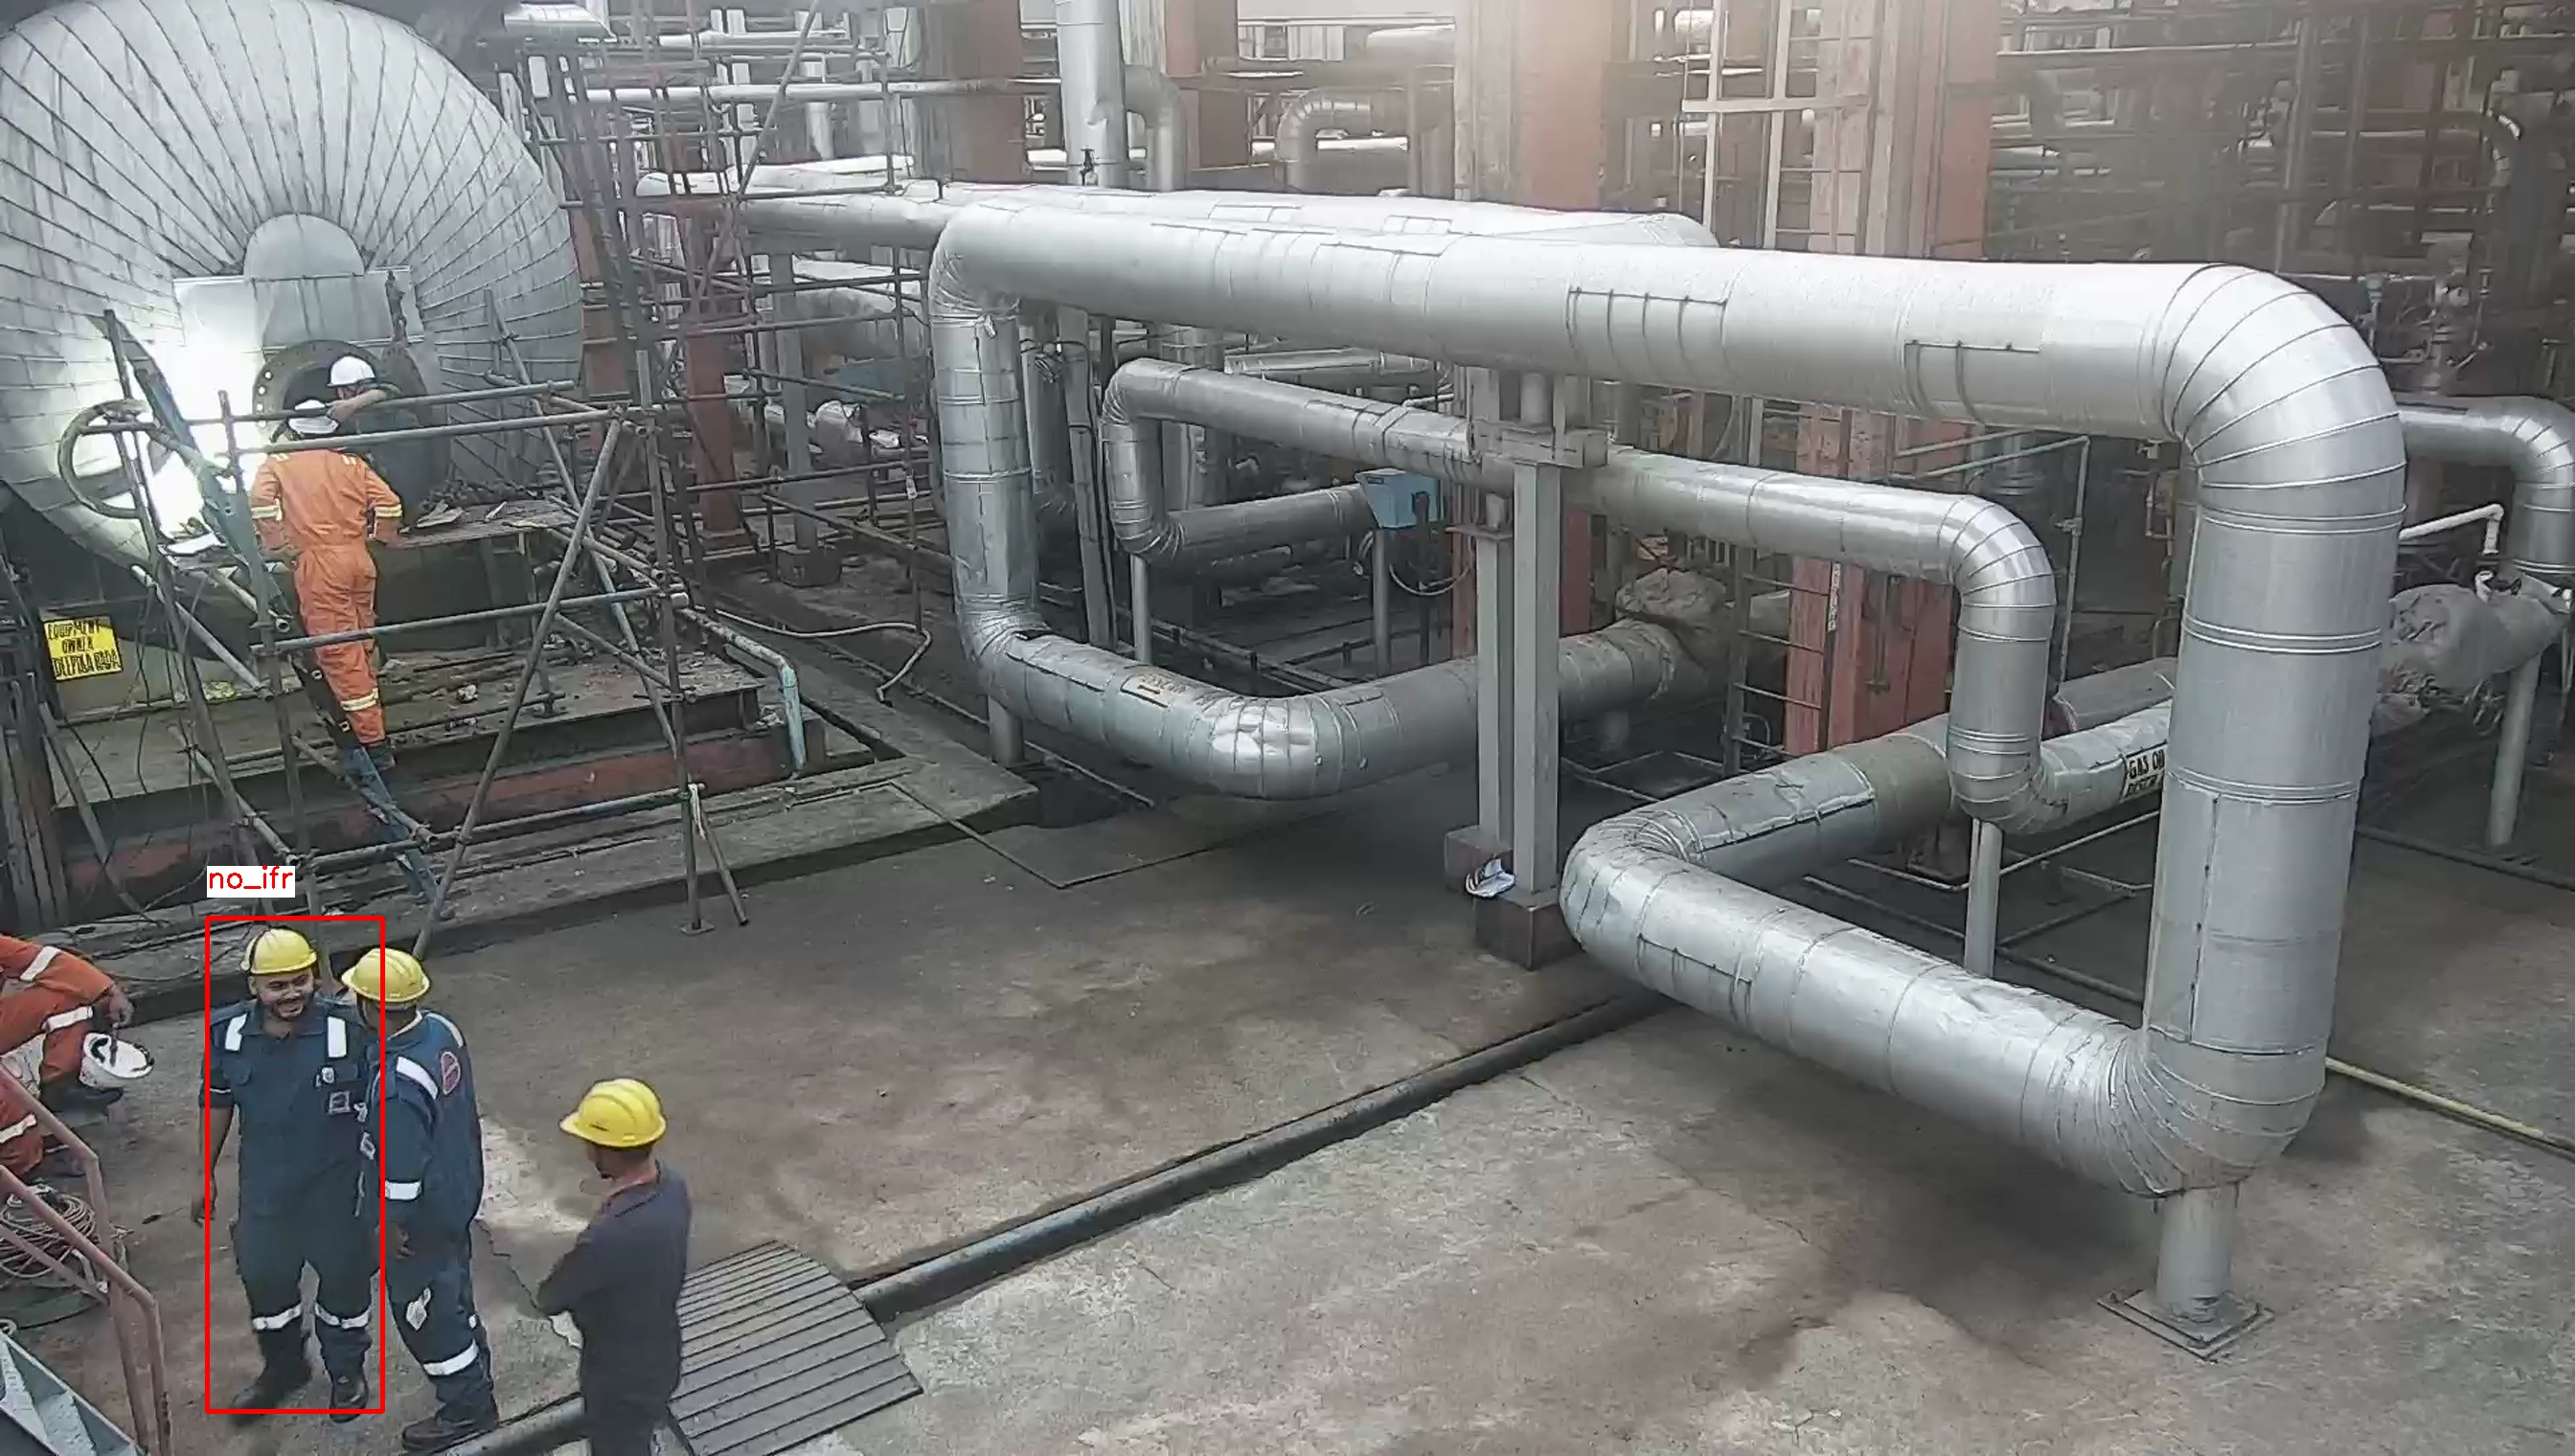Boots: (396, 1406, 502, 1454)
Helmets: (555, 1077, 677, 1157), (241, 922, 327, 975)
IFR_Suit: (370, 1019, 508, 1405)
